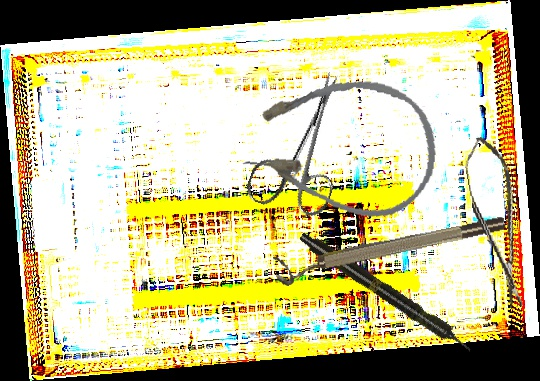Cannula: (237, 64, 445, 226)
Fixation Ring: (272, 212, 509, 288)
Handpiece: (296, 228, 476, 358)
Iris Scissors: (242, 58, 371, 226)
Micro Scissor: (460, 133, 533, 313)
